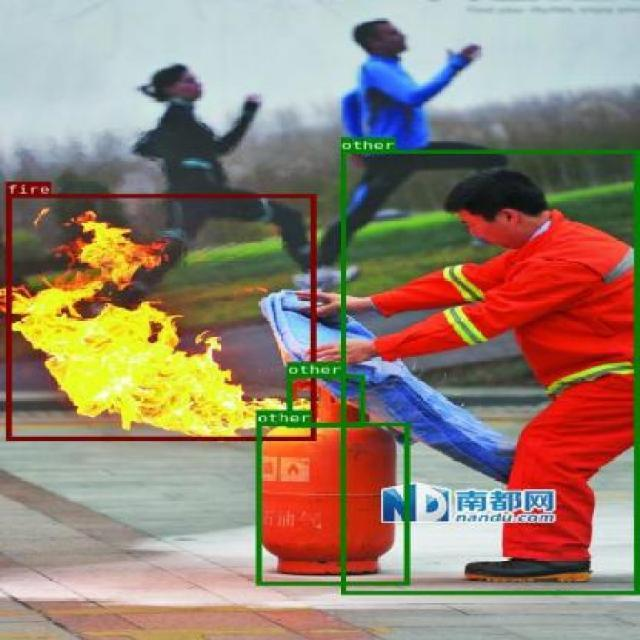Fire: (4, 194, 316, 438)
